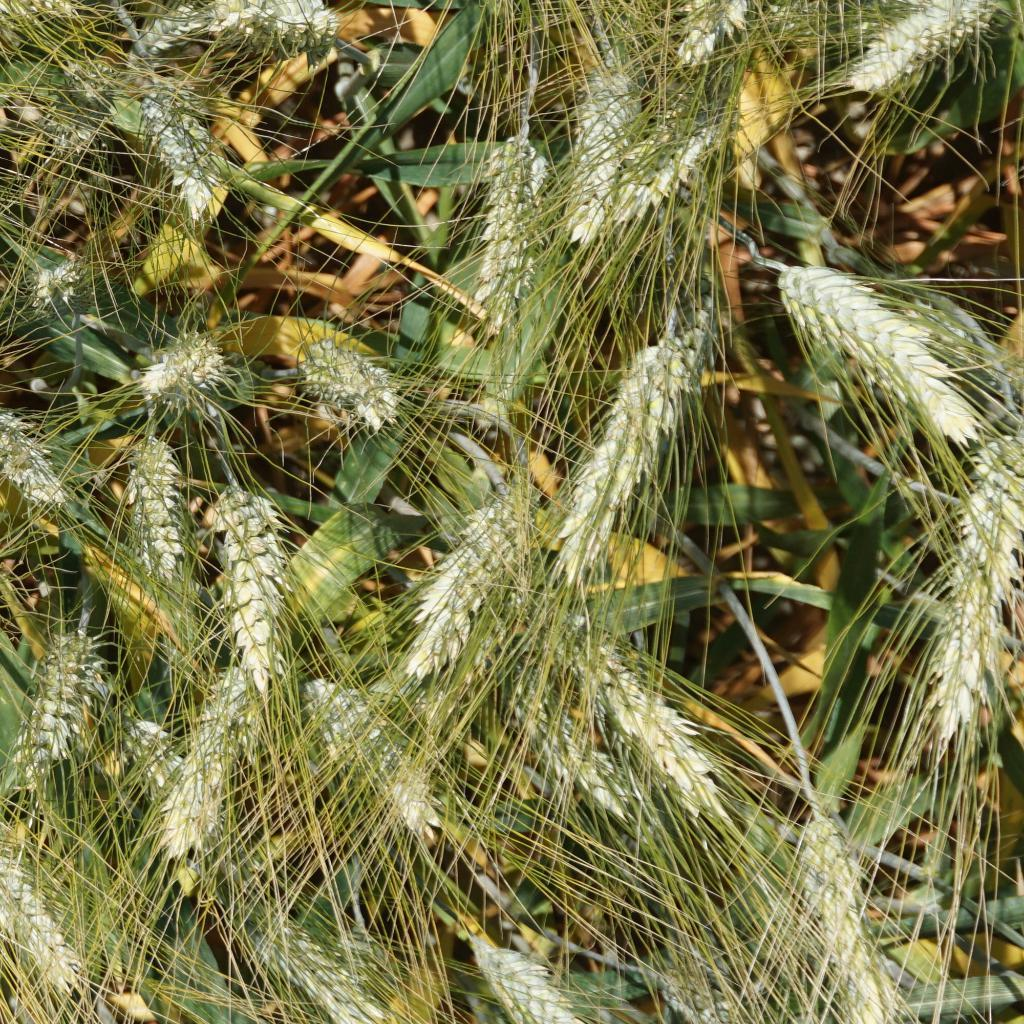0-0: (766, 252, 978, 439), (555, 349, 690, 568), (583, 642, 731, 811), (951, 444, 1021, 782), (794, 815, 902, 1024), (229, 896, 377, 1014), (205, 476, 291, 670), (465, 131, 542, 339), (0, 818, 89, 993), (23, 615, 111, 777), (560, 53, 631, 238), (190, 657, 258, 845), (619, 99, 728, 209), (447, 931, 577, 1021), (288, 331, 401, 431), (150, 70, 226, 216), (117, 439, 195, 579), (421, 496, 516, 609), (856, 0, 970, 92), (508, 649, 580, 780), (0, 394, 77, 516), (892, 293, 992, 382), (128, 318, 231, 403), (211, 0, 344, 57), (299, 674, 372, 771), (666, 0, 771, 61), (568, 741, 643, 821), (368, 734, 427, 835), (651, 961, 743, 1024), (398, 607, 473, 684), (676, 316, 730, 412), (121, 704, 180, 783), (31, 246, 99, 312), (342, 909, 402, 981), (138, 0, 206, 54), (65, 47, 124, 109), (47, 96, 105, 158), (761, 0, 833, 48), (0, 0, 76, 26)
